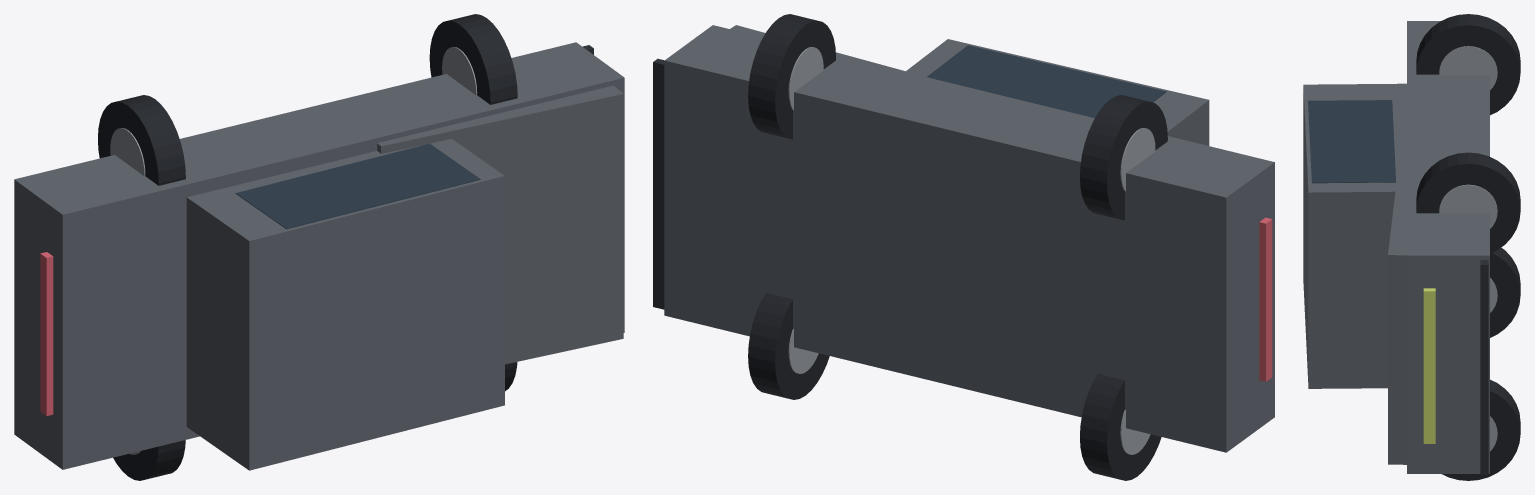
The model's file is hatch.glb.
The picture shows the model from 3 angles, left to right: view 1: azimuth 30°, elevation 25°; view 2: azimuth 150°, elevation 25°; view 3: azimuth 270°, elevation 25°; orthographic projection. The views are drawn at different scales.
Parts seen in each view (by area): view 1: part2, part0, part1, part3, part10, part6, part13, part4, part7, part11; view 2: part0, part3, part6, part10, part4, part8, part2, part14, part13, part7, part11, part5 (+1 smaller); view 3: part0, part2, part3, part1, part10, part6, part8, part12, part4, part14, part7, part11.
Part boxes in pixels (left/top/right/bottom): part2: left=186, top=139, right=504, bottom=470; part0: left=14, top=42, right=624, bottom=469; part1: left=377, top=85, right=623, bottom=364; part3: left=235, top=143, right=480, bottom=229; part10: left=429, top=14, right=517, bottom=104; part6: left=98, top=95, right=185, bottom=185; part13: left=40, top=252, right=53, bottom=416; part4: left=113, top=440, right=185, bottom=480; part7: left=110, top=128, right=145, bottom=176; part11: left=442, top=47, right=477, bottom=95; part0: left=664, top=25, right=1274, bottom=452; part3: left=927, top=45, right=1166, bottom=117; part6: left=1080, top=95, right=1167, bottom=220; part10: left=748, top=14, right=835, bottom=139; part4: left=1080, top=374, right=1161, bottom=480; part8: left=748, top=293, right=829, bottom=399; part2: left=906, top=39, right=1209, bottom=145; part14: left=653, top=58, right=664, bottom=309; part13: left=1259, top=217, right=1272, bottom=381; part7: left=1120, top=128, right=1155, bottom=191; part11: left=788, top=47, right=823, bottom=110; part5: left=1120, top=409, right=1150, bottom=454; part0: left=1407, top=21, right=1489, bottom=473; part2: left=1303, top=83, right=1406, bottom=388; part3: left=1308, top=100, right=1395, bottom=183; part1: left=1388, top=156, right=1406, bottom=464; part10: left=1416, top=152, right=1520, bottom=253; part6: left=1416, top=14, right=1520, bottom=115; part8: left=1442, top=379, right=1520, bottom=480; part12: left=1423, top=288, right=1435, bottom=443; part4: left=1490, top=247, right=1520, bottom=337; part14: left=1480, top=260, right=1488, bottom=474; part7: left=1439, top=46, right=1497, bottom=90; part11: left=1439, top=184, right=1497, bottom=228.
Bounding box in the file's own units: 4.29 × 2.62 × 1.62.
